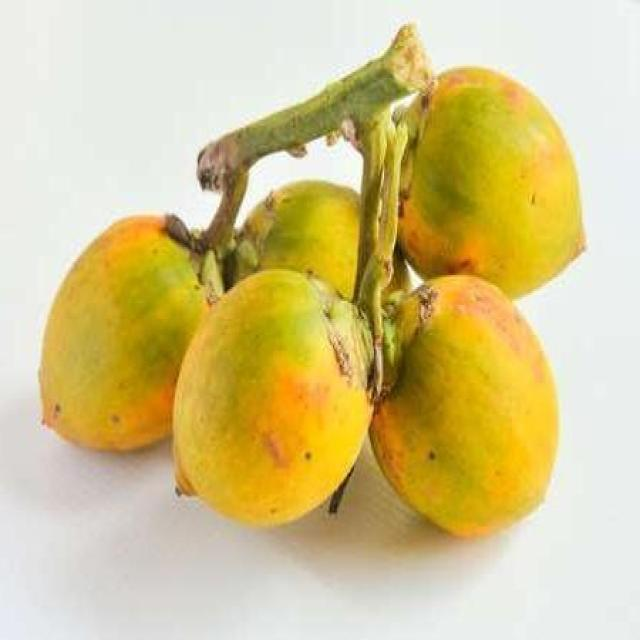good: (172, 269, 377, 528), (368, 273, 560, 540), (398, 68, 589, 301), (37, 217, 208, 453)
